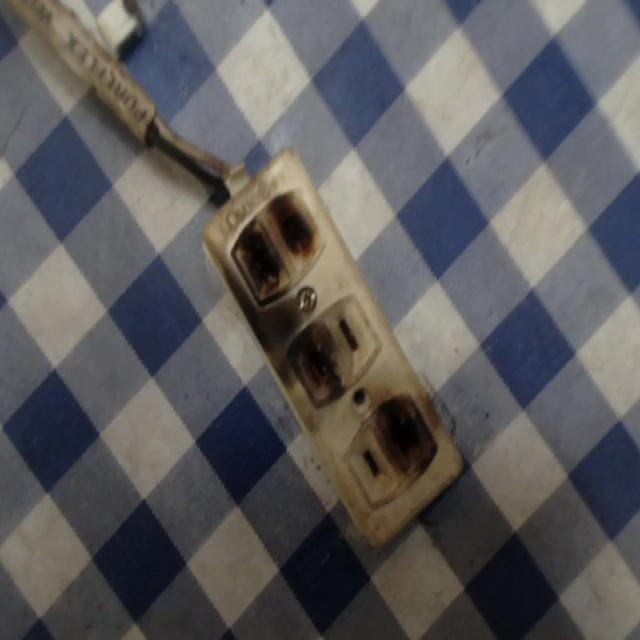-: (223, 187, 324, 309), (271, 316, 346, 419), (371, 380, 439, 483)
